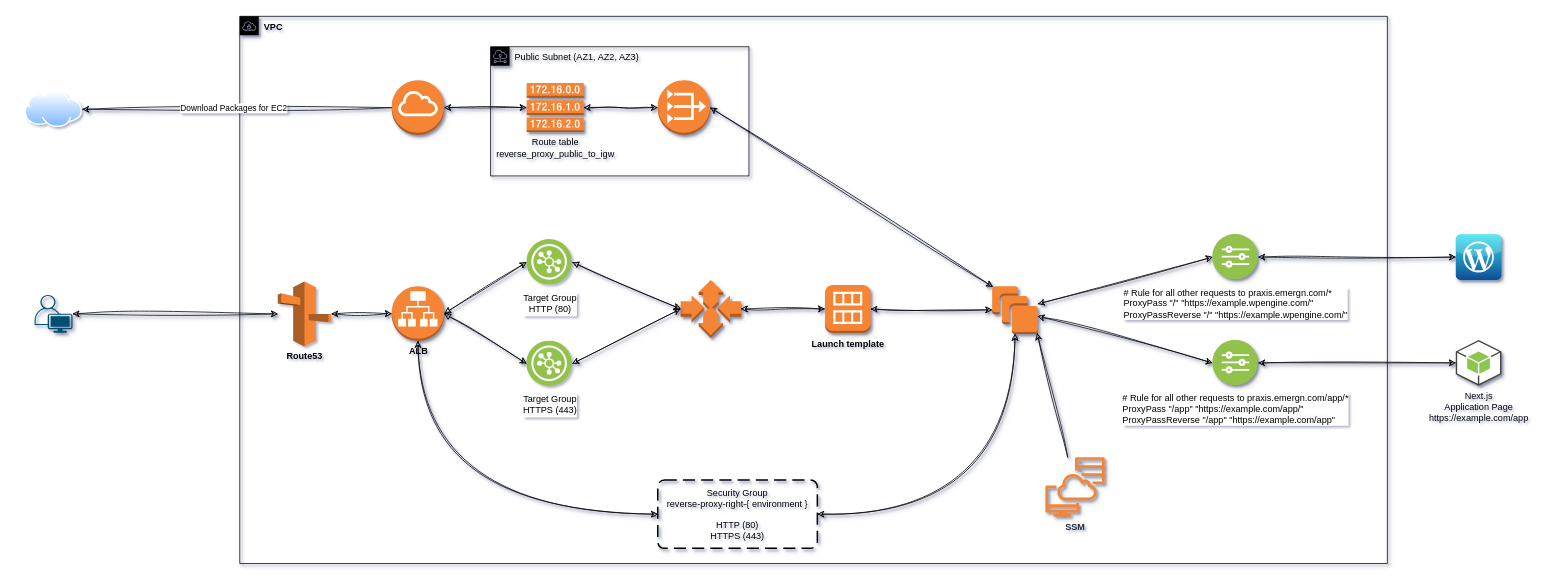
Image size: 1559x587. Some labels were removed from this diagram. The centre of each missing label's shape, as x and y in pixels:
Auto Scaling Group: the point at 711,309
EC2 httpd /etc/httpd/conf.d/reverse-proxy.conf: the point at 1015,310
https://example.com: the point at 54,314
Internet Gateway: the point at 418,108
NAT Gateway: the point at 684,108
Wordpress Marketing Page https://example.wpengine.com/: the point at 1479,258
